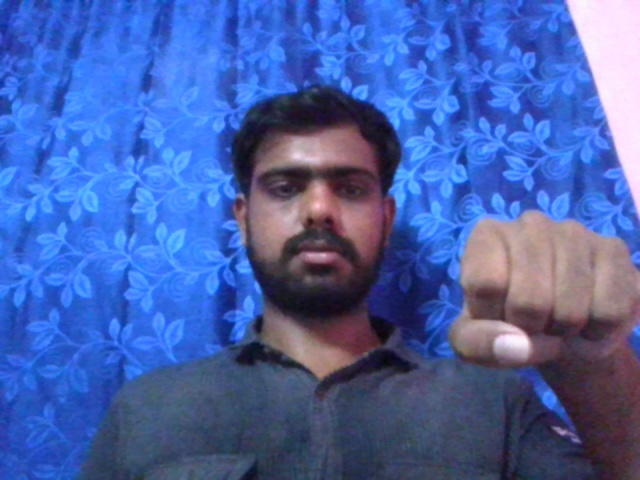Yes: (447, 210, 636, 369)
